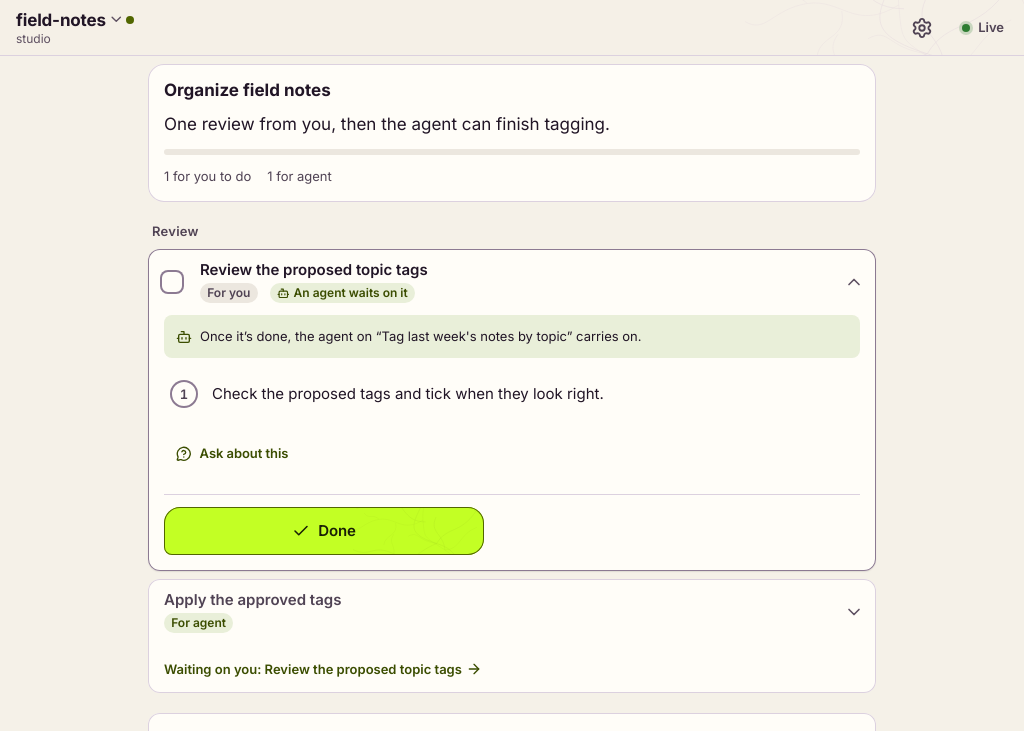
Test: switches projects and All through the header picker, without a chip row
Click the button with class "ctx__context". click: (75, 28)
box: left=8, top=4, right=142, bottom=52
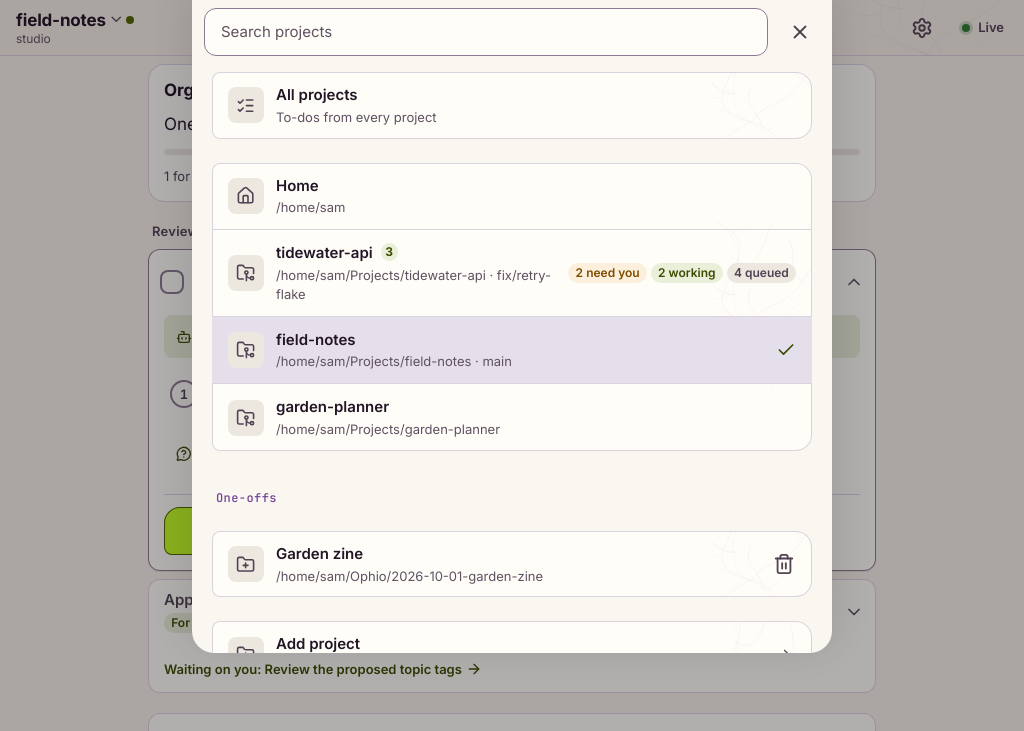
Click the button "tidewater-api". click: (512, 272)
box: left=212, top=229, right=812, bottom=316
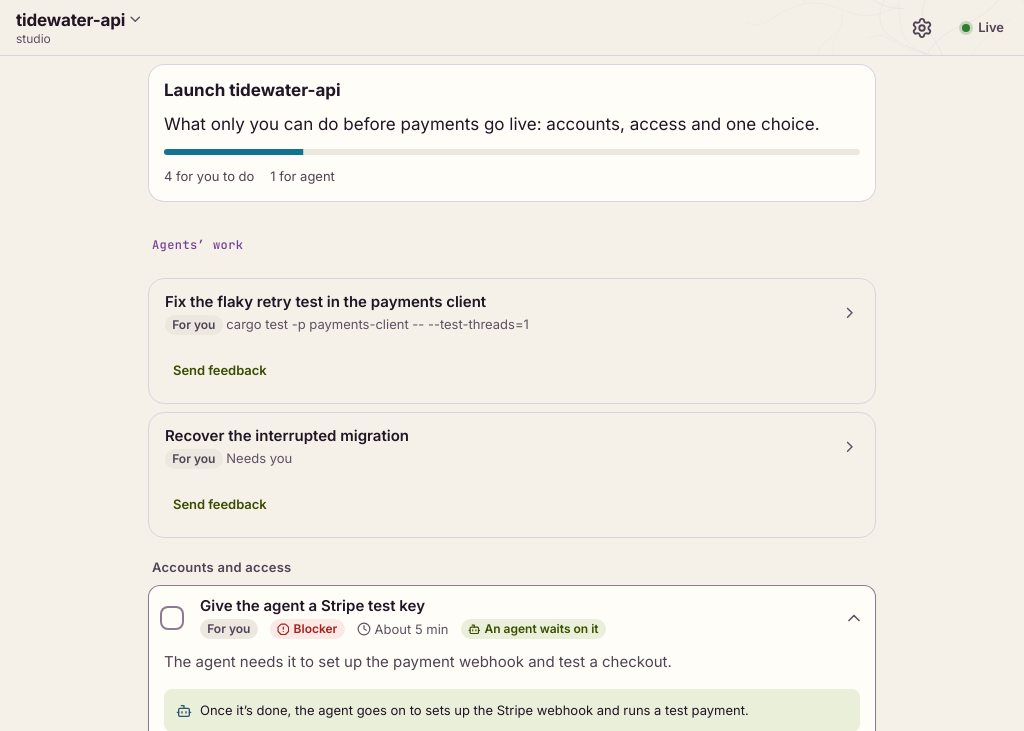
Expected: the text with class "ctx__project-name" reads "tidewater-api", left=16, top=10, right=125, bottom=30
Click the button with class "ctx__context". click: (80, 28)
box: left=8, top=4, right=152, bottom=52
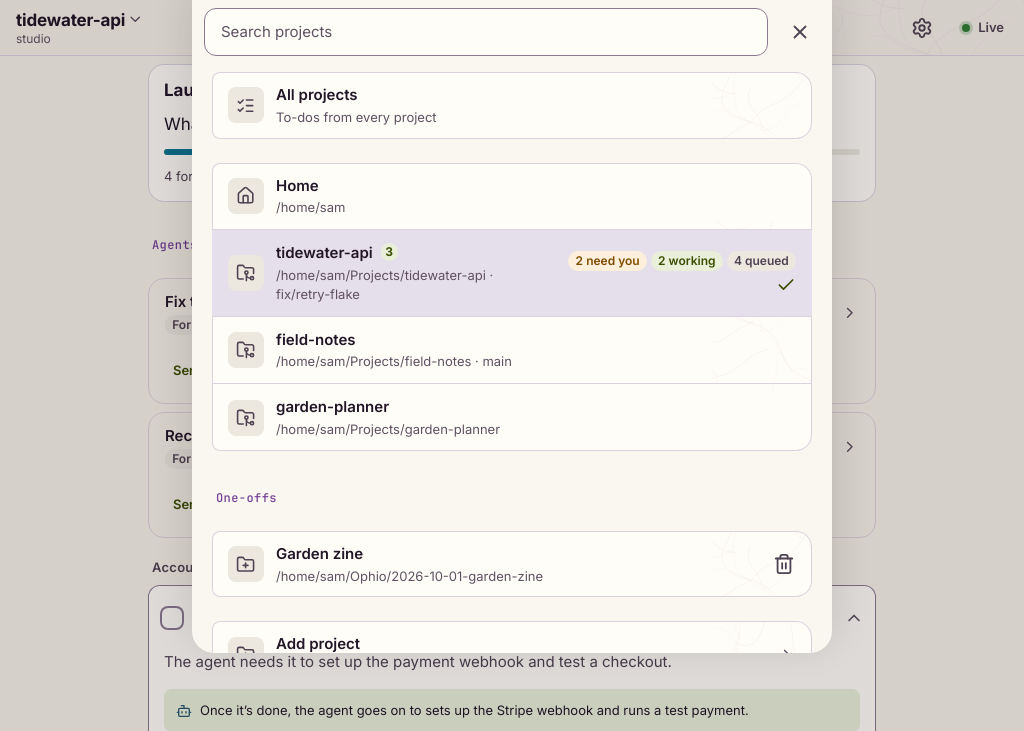
Click the button "All projects To-dos from every project". click: (246, 105)
box: left=212, top=72, right=812, bottom=139
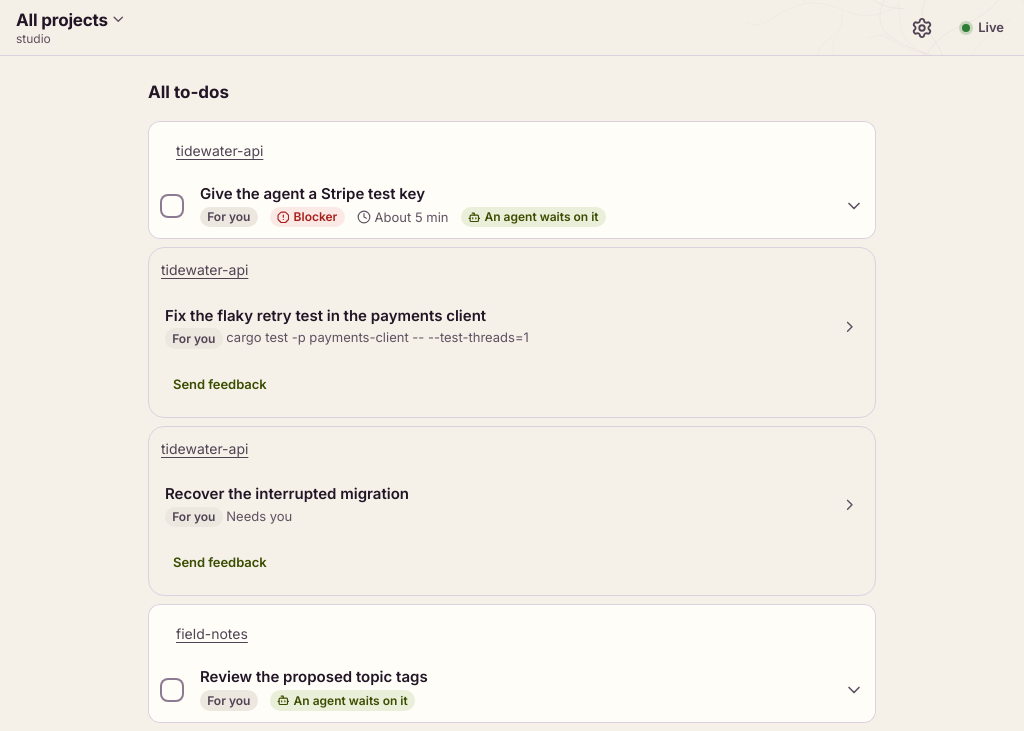
Expected: the text with class "ctx__project-name" reads "All projects", left=16, top=10, right=108, bottom=30
Expected: the heading "All to-dos" is shown, left=148, top=82, right=229, bottom=102
